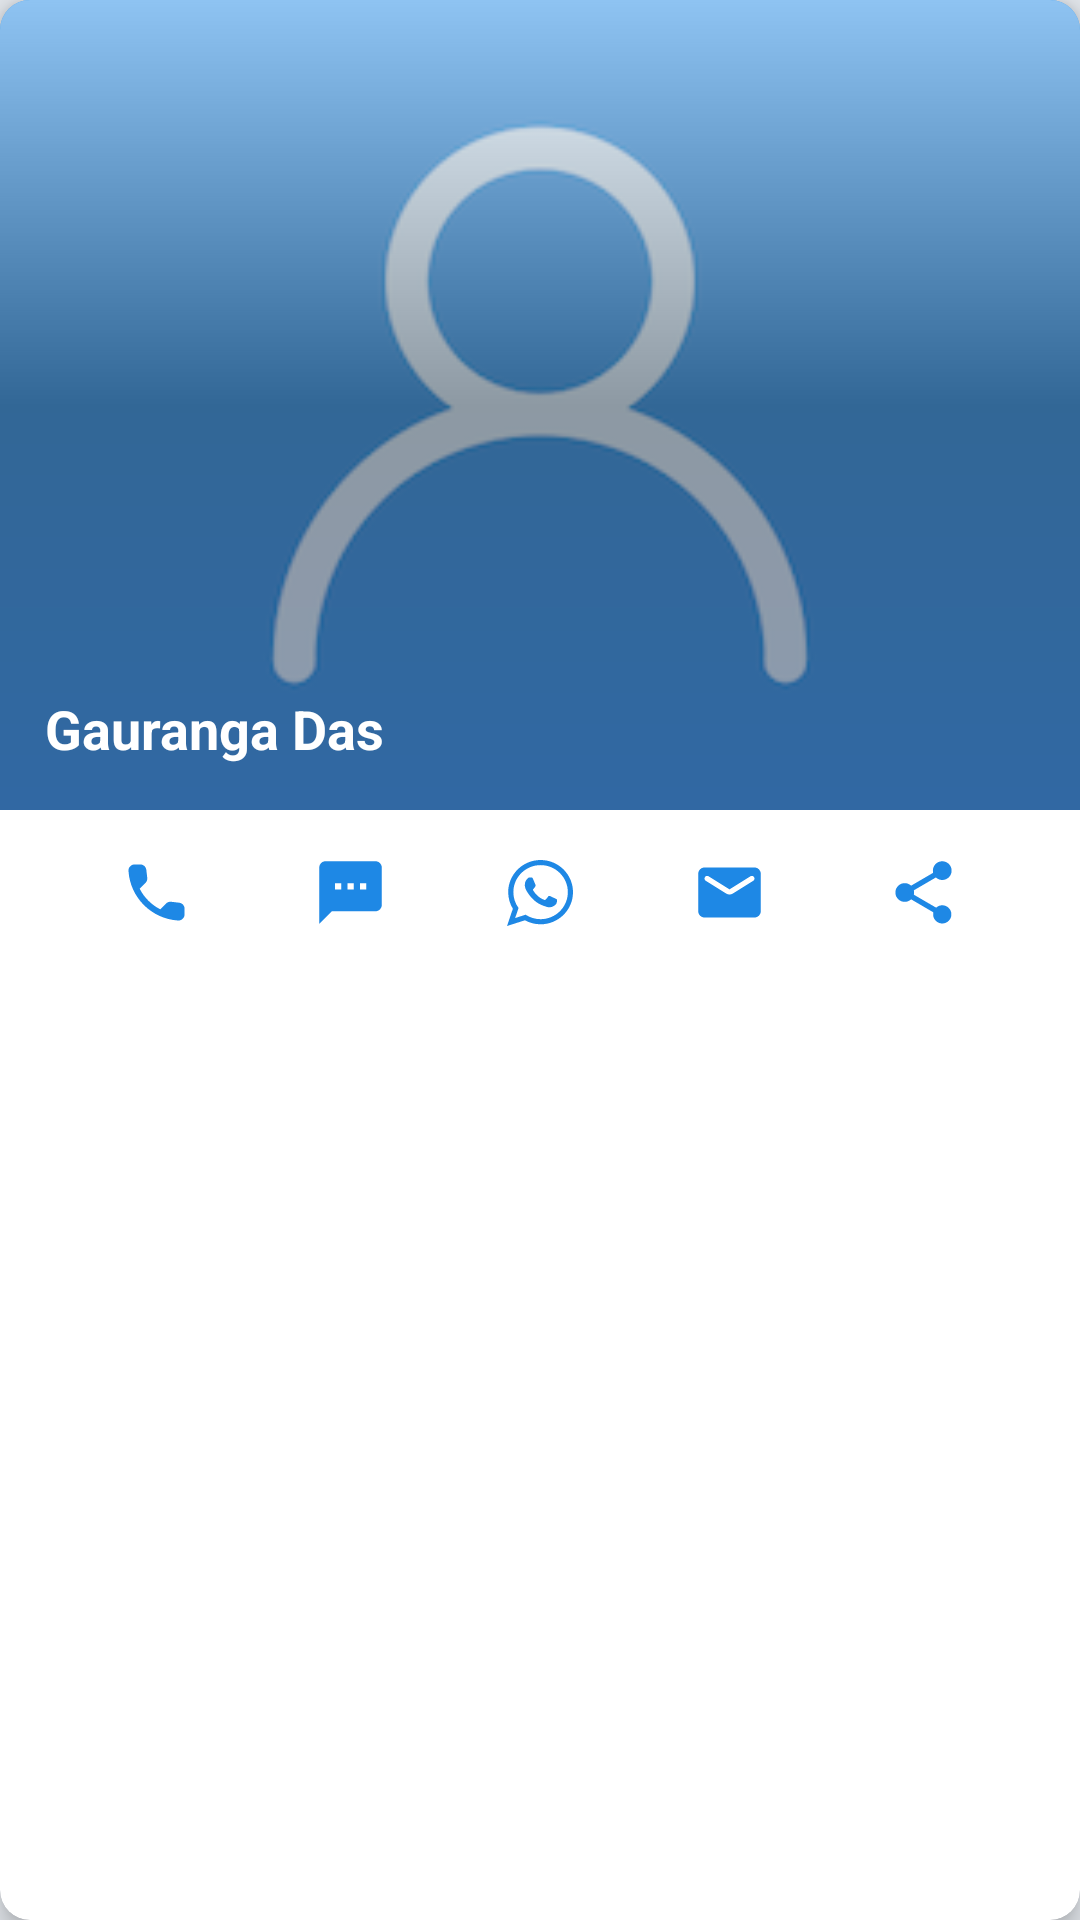

Screen size 1080×1920. Icon name, then its box in pixels as box=[x1, y1, x2, y2]:
call: box=[128, 864, 185, 921]
email: box=[698, 867, 761, 918]
share: box=[895, 861, 952, 924]
